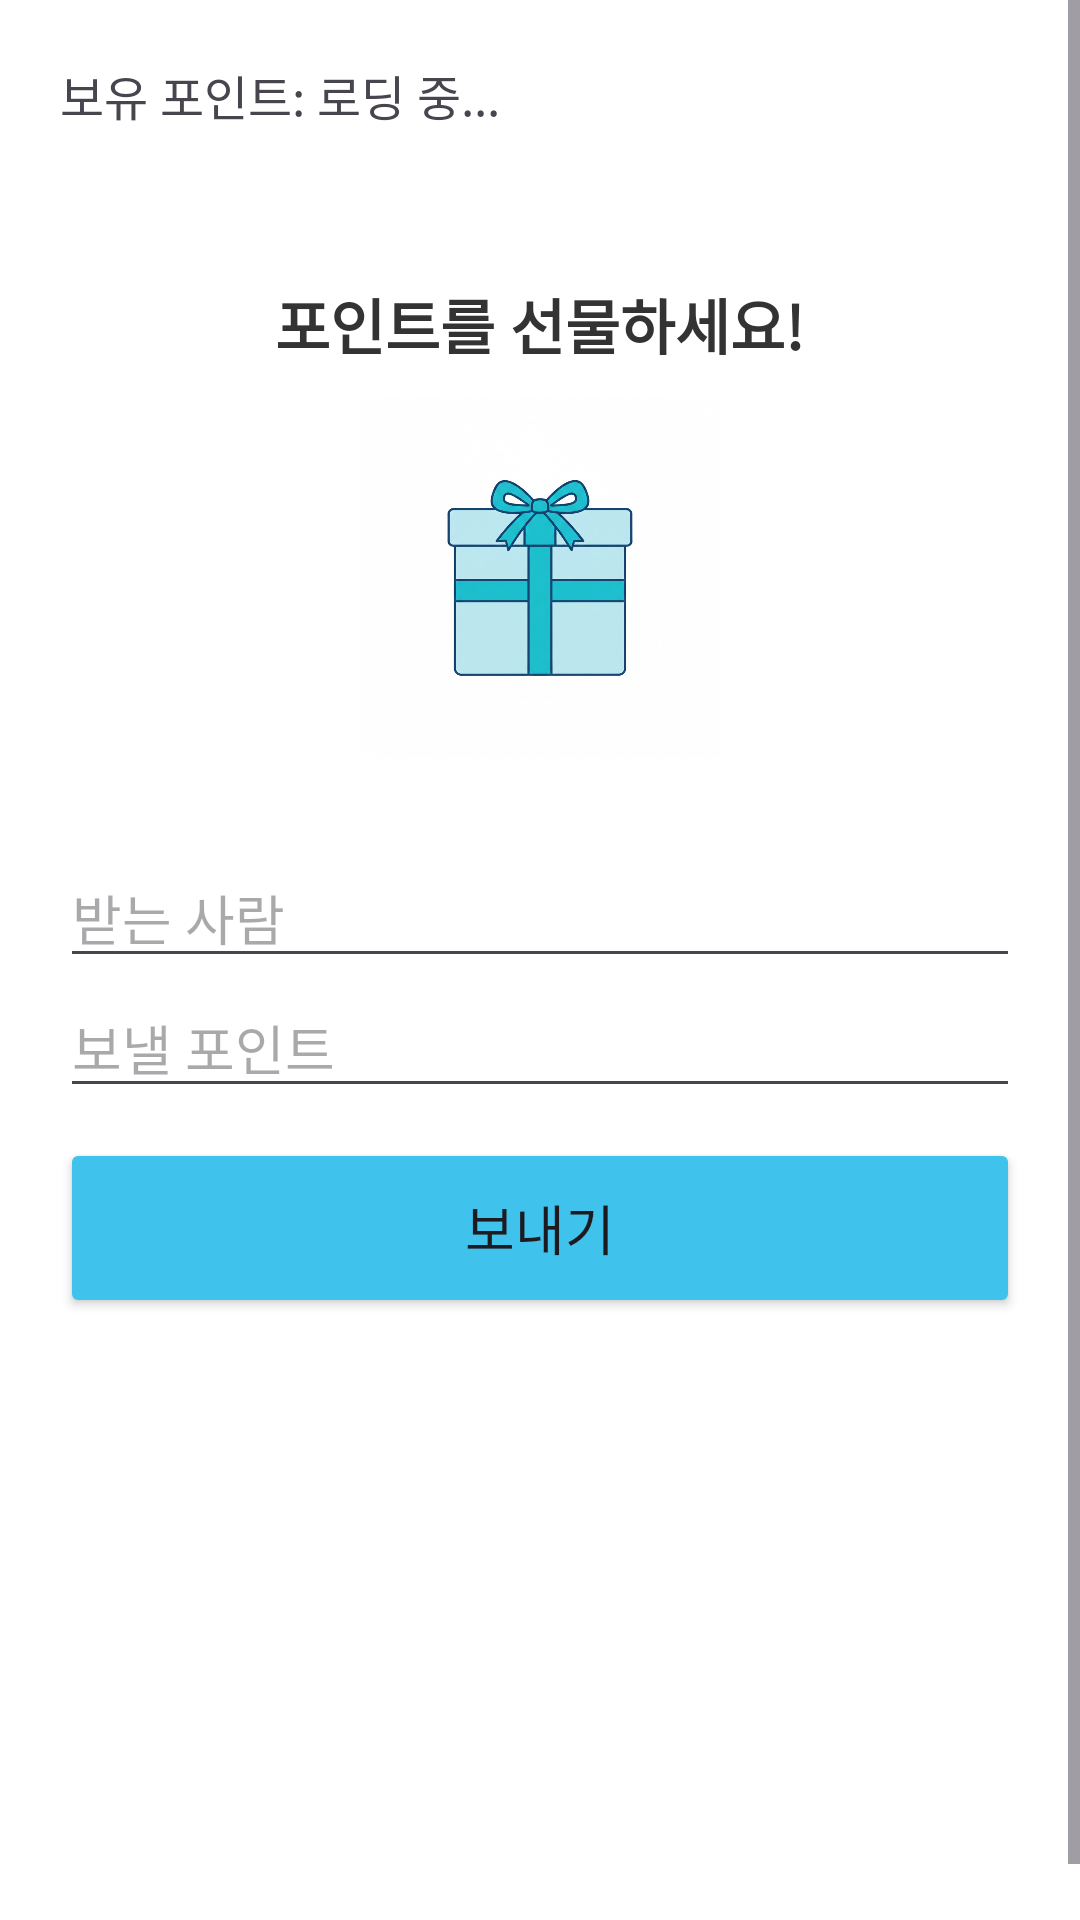

Point at icon controls on the screen. Image size 1080 × 1920, points as (x,y).
선물상자 이미지: (540,578)
